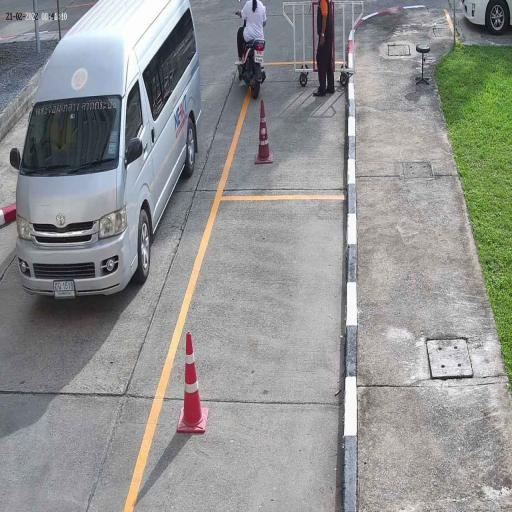car: (13, 0, 205, 301)
motorcycle: (241, 37, 268, 101)
